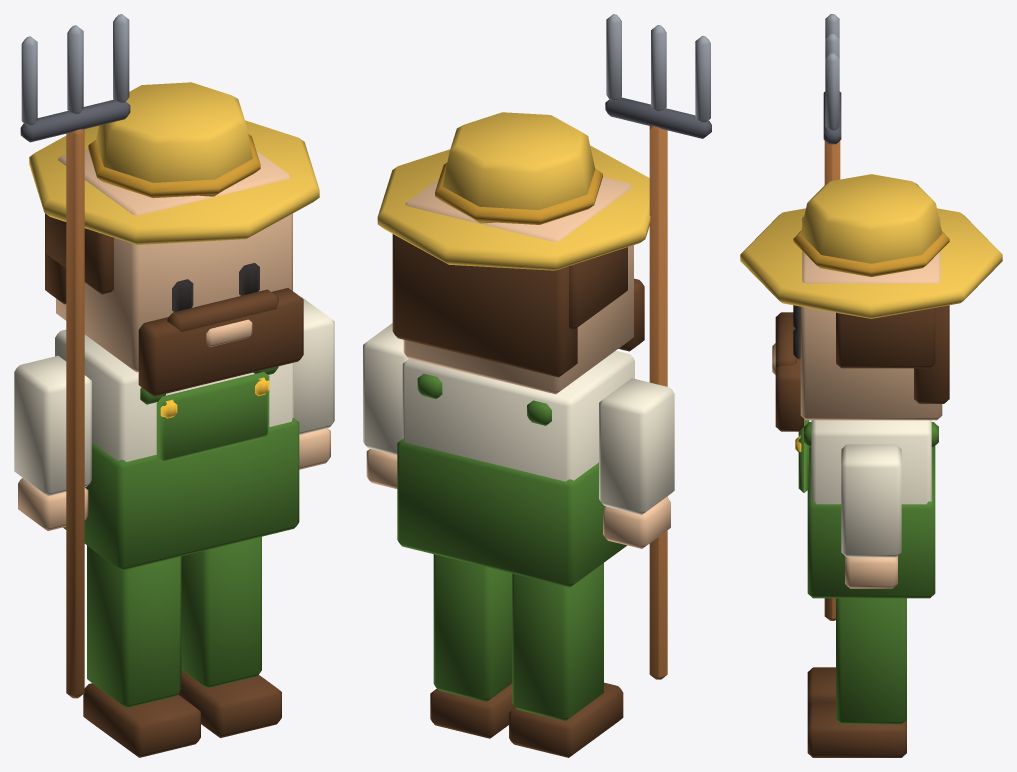
Rendered from H_MedFarmer.fbx.
The picture shows the model from 3 angles, left to right: view 1: azimuth 30°, elevation 25°; view 2: azimuth 150°, elevation 25°; view 3: azimuth 270°, elevation 25°; orthographic projection. The views are drawn at different scales.
Visible parts, largest first — view 1: M_Farmer; view 2: M_Farmer; view 3: M_Farmer.
Part boxes in pixels (x1=…): M_Farmer: x1=14, y1=14, x2=334, y2=757; M_Farmer: x1=363, y1=14, x2=711, y2=757; M_Farmer: x1=740, y1=14, x2=1002, y2=757.
Size of the model in its own units: 0.91 by 2 by 0.74.
1 material, 1 textured.
